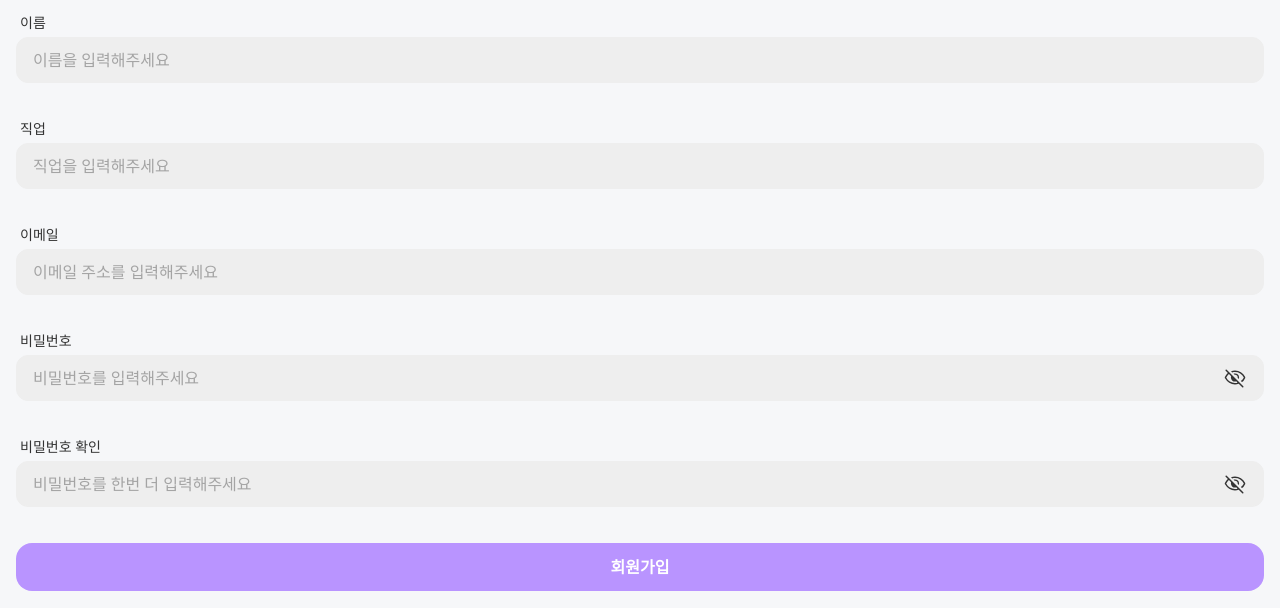
Test case: 🧩 SignupForm — 폼 유효성 검증 › 모든 필드를 비운 채 제출하면 에러 메시지가 표시된다
This screenshot has width=1280, height=608.
Step 1. Click the button "회원가입" → (640, 567), box [16,543,1264,591]
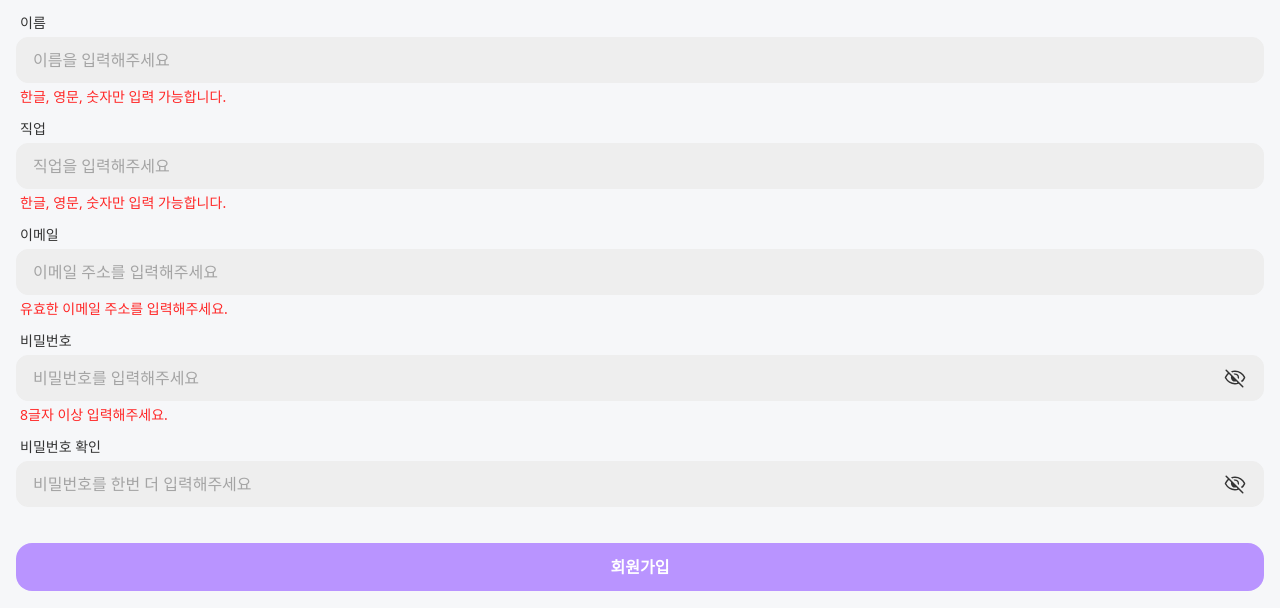
Check: the text "한글, 영문, 숫자만 입력 가능합니다." below "이름" is shown, box [20,87,226,106]
